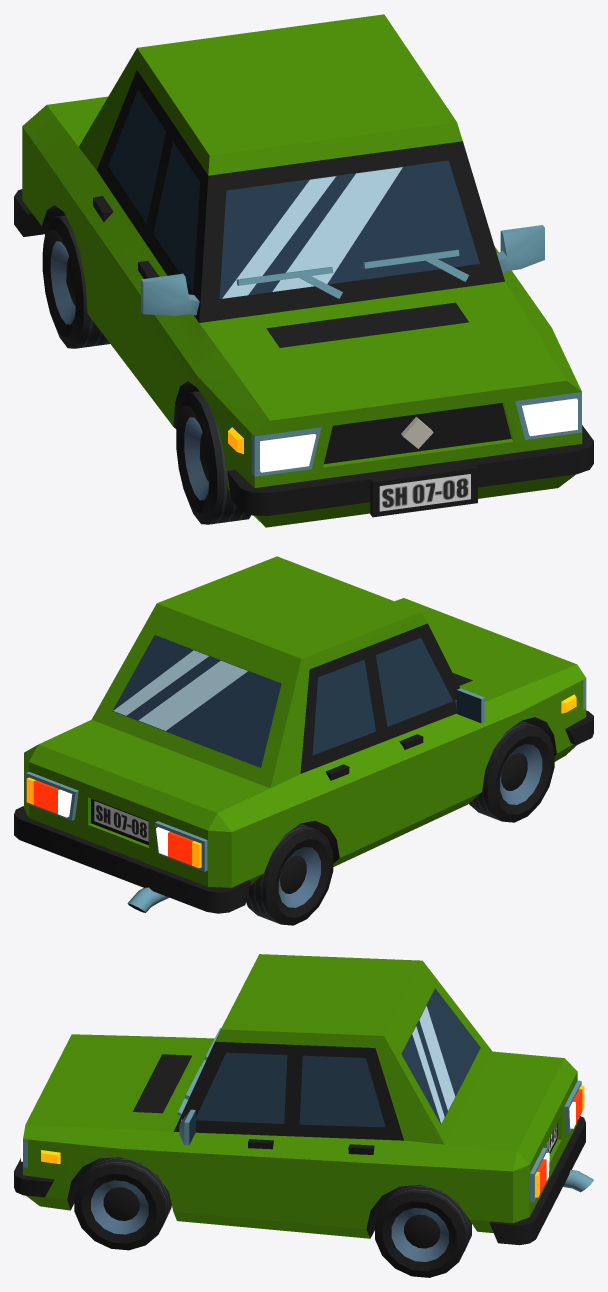
Rendered from sedan.glb.
3 renders of one model, top to bottom at view 1: azimuth 30°, elevation 25°; view 2: azimuth 150°, elevation 25°; view 3: azimuth 270°, elevation 25°, orthographic. The views are drawn at different scales.
Parts seen in each view (by area): view 1: Sedan_1, BaseS_1, BaseS_3; view 2: Sedan_1, BaseS_3, BaseS_1; view 3: Sedan_1, BaseS, BaseS_2.
Part boxes in pixels (x1,y1,x2,y2): Sedan_1: (14, 14, 593, 527); BaseS_1: (176, 391, 251, 524); BaseS_3: (42, 215, 109, 348); Sedan_1: (14, 556, 593, 913); BaseS_3: (246, 823, 333, 925); BaseS_1: (469, 720, 554, 822); Sedan_1: (14, 954, 593, 1245); BaseS: (74, 1157, 171, 1250); BaseS_2: (375, 1184, 471, 1277).
Bounding box in the file's own units: 2.8 × 1.86 × 4.43.
2 materials, 2 textured.
